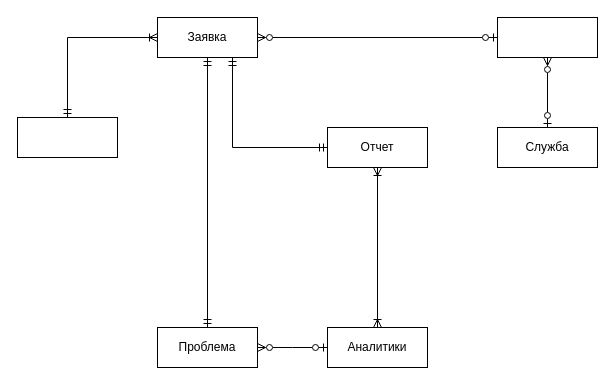
This 615x385 diagram has some shape labels left out. Each missing label, with the centre of its shape:
Городская служба: point 67,137
Исполнитель: point 547,37
